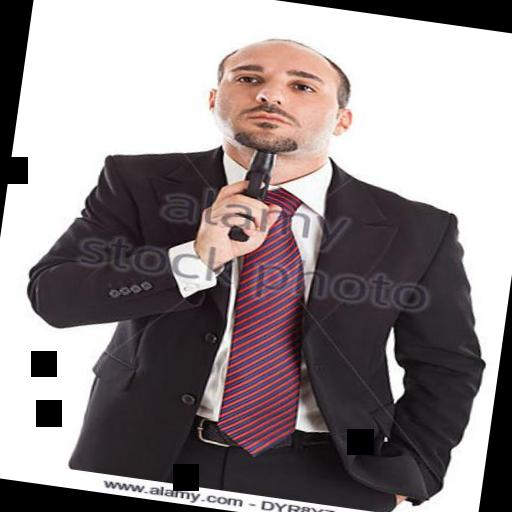Handgun: (224, 144, 286, 248)
